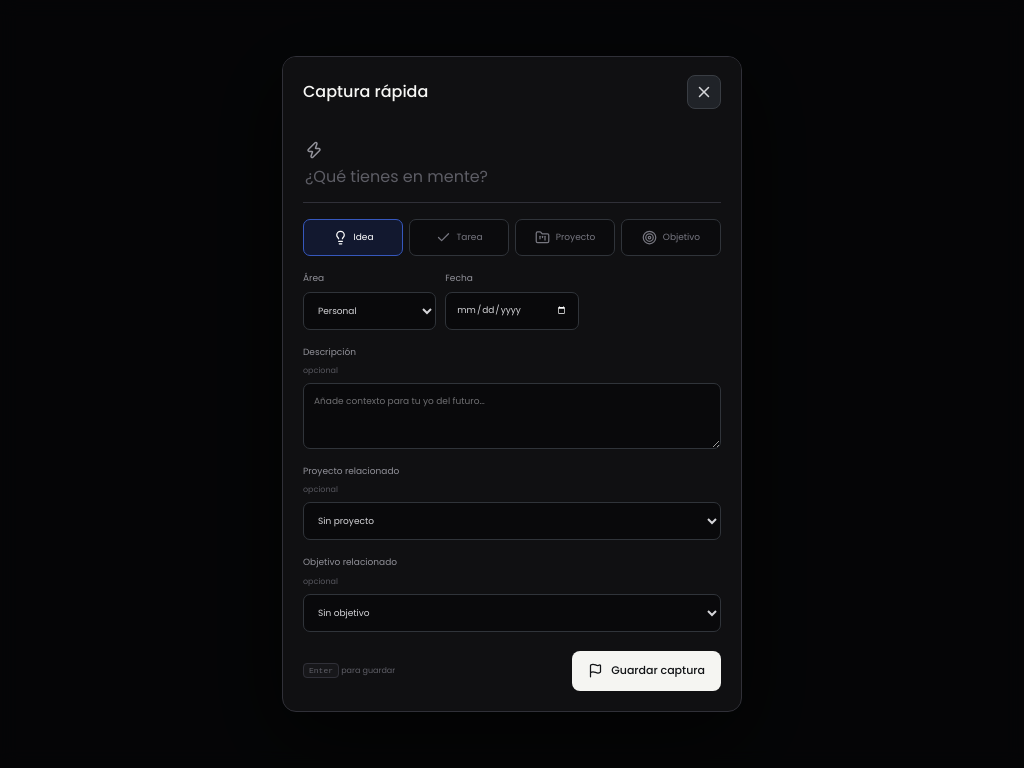
captura rápida › captura una idea en inbox
The image size is (1024, 768).
Type "Crear álbum de viaje" into the field with placeholder "¿Qué tienes en mente?". click: [512, 177]
box: [305, 165, 719, 189]
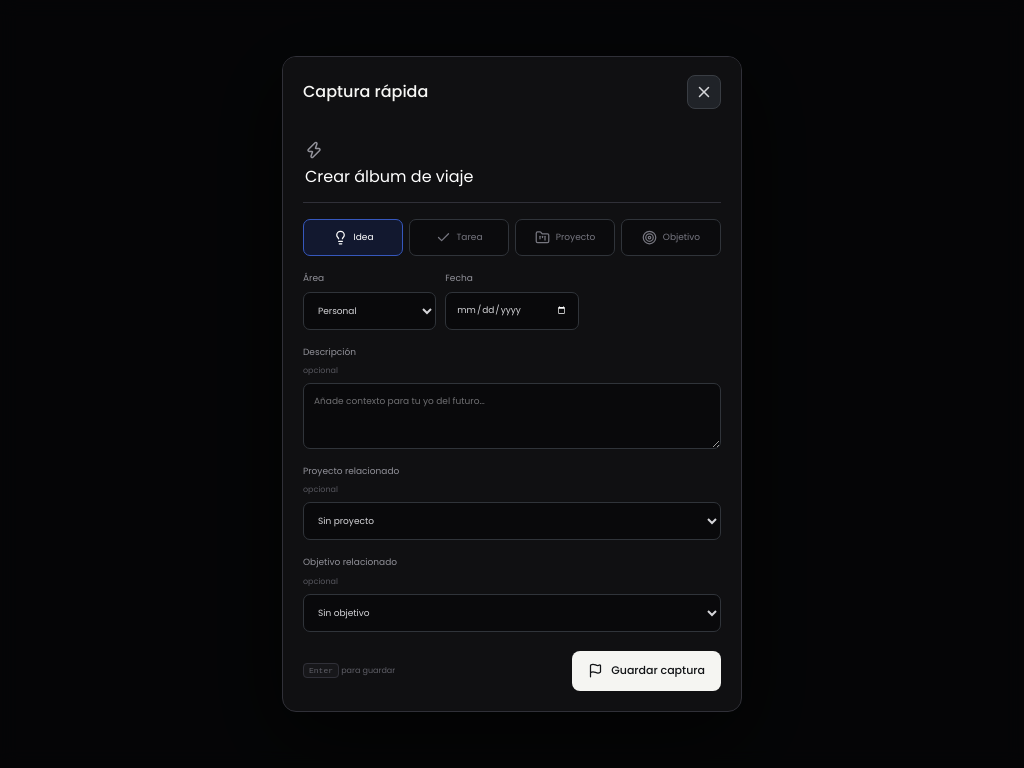
Press Enter
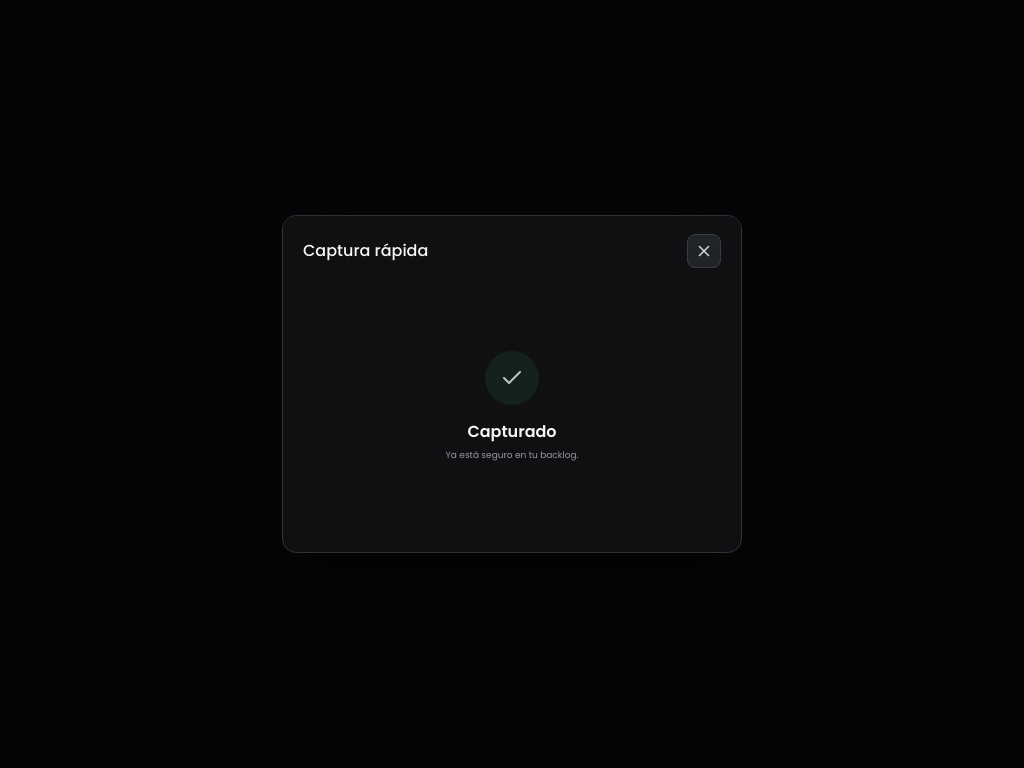
Now the message shows "Capturado", box [467, 420, 556, 443]
